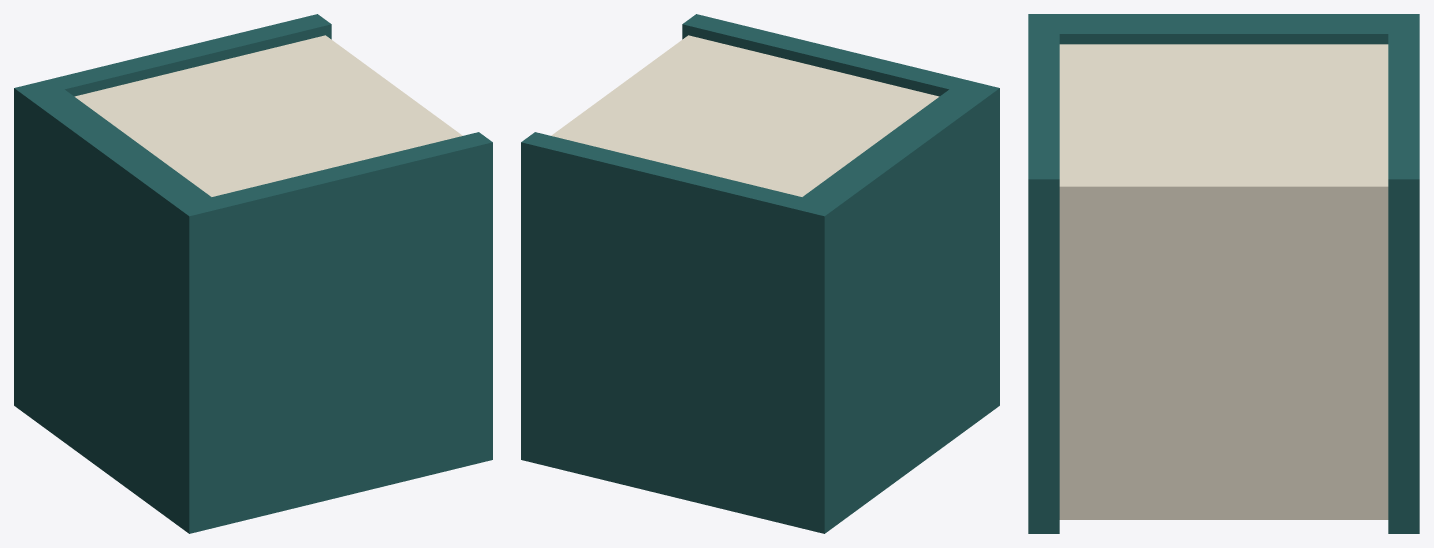
Rendered from book-5.glb.
The picture shows the model from 3 angles, left to right: view 1: azimuth 30°, elevation 25°; view 2: azimuth 150°, elevation 25°; view 3: azimuth 270°, elevation 25°; orthographic projection. The views are drawn at different scales.
Size of the model in its own units: 1 by 1 by 1.
